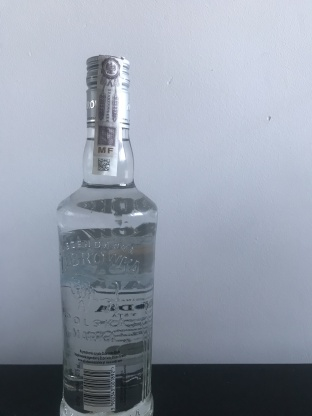nakretka: (84, 50, 132, 132)
